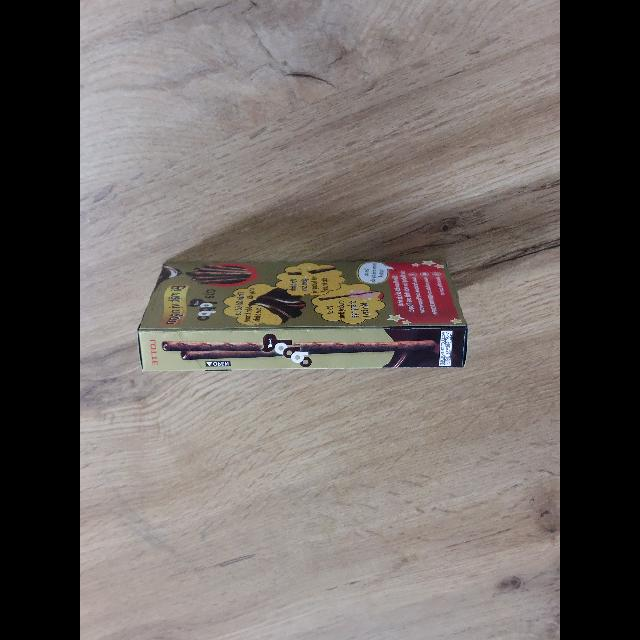banh_toppo_socola: (138, 260, 468, 371)
